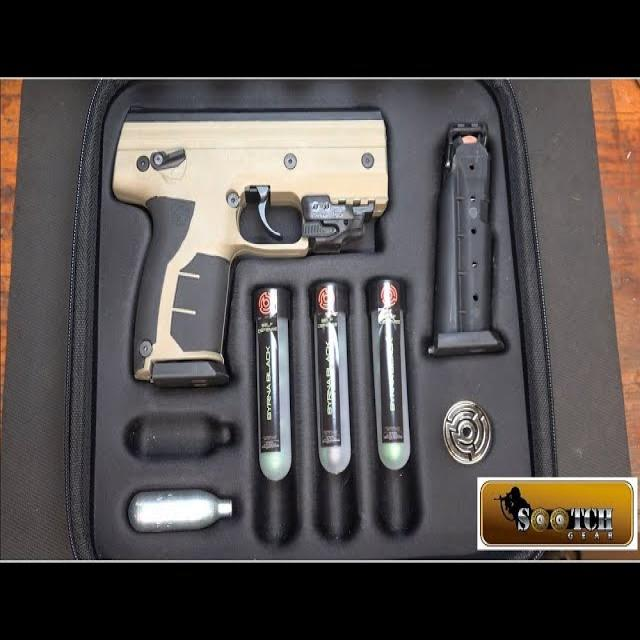handgun: (113, 120, 390, 373)
